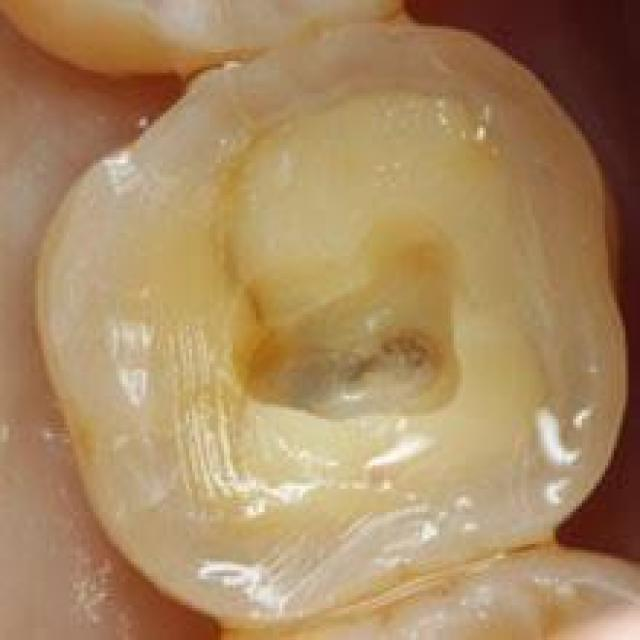Cavity: (221, 195, 460, 416)
Tooth: (38, 23, 631, 634)
